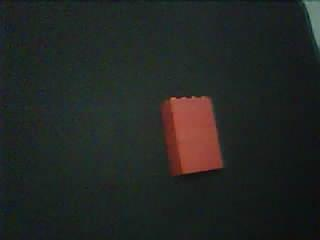lego: (158, 94, 223, 177)
